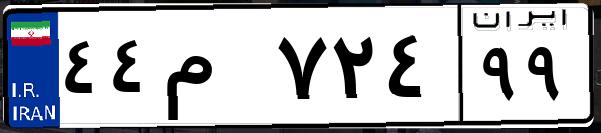2: (330, 28, 385, 110)
4: (385, 28, 445, 110), (57, 26, 110, 100), (110, 28, 158, 98)
7: (270, 28, 330, 110)
9: (475, 38, 525, 113), (525, 38, 570, 115)
م: (158, 20, 270, 120)
